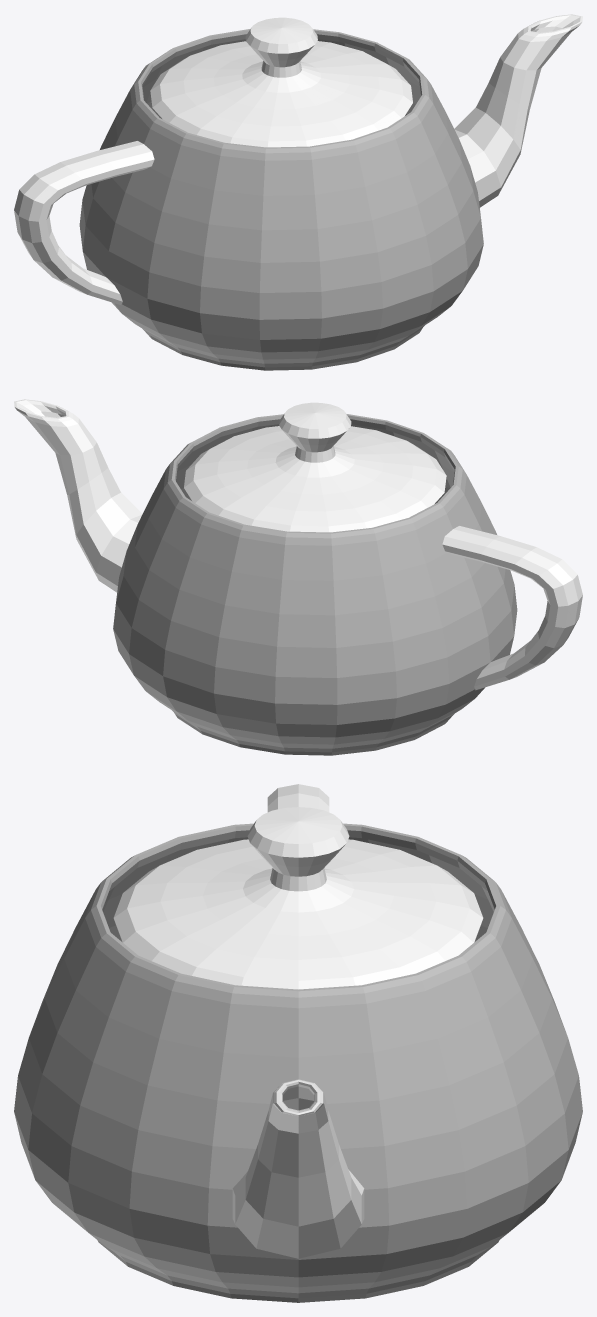
Rendered from TeaPot.fbx.
The picture shows the model from 3 angles, top to bottom: view 1: azimuth 30°, elevation 25°; view 2: azimuth 150°, elevation 25°; view 3: azimuth 270°, elevation 25°; orthographic projection. The views are drawn at different scales.
Visible parts, largest first — view 1: Teapot; view 2: Teapot; view 3: Teapot.
Part boxes in pixels (x1,y1,x2,y2): Teapot: (14, 14, 582, 370); Teapot: (14, 399, 582, 755); Teapot: (14, 784, 582, 1302).
Size of the model in its own units: 45.04 by 22.05 by 28.
